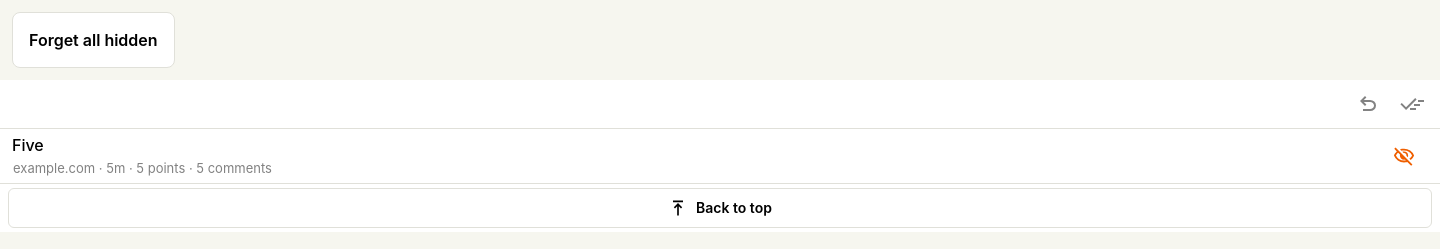
Test: <HiddenPage> › unhide removes the row and its hidden record
expect the text "Five" is shown: met, box [12, 135, 44, 155]
Click the button named "unhide" at [1404, 156], box [1380, 129, 1428, 183]
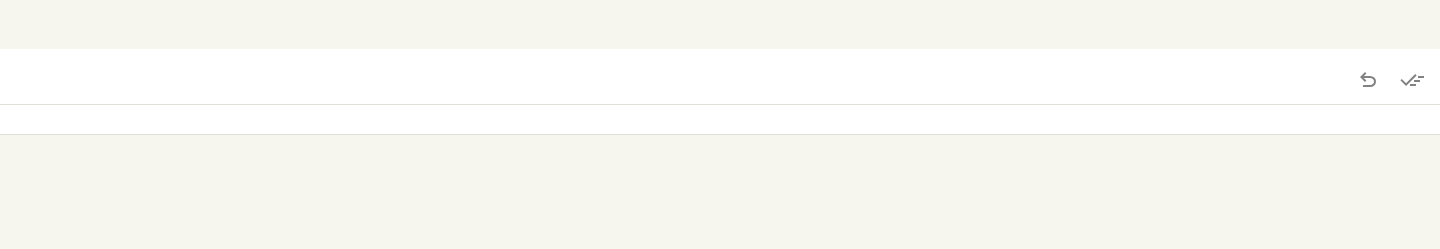
expect the link "Five" is gone: met
